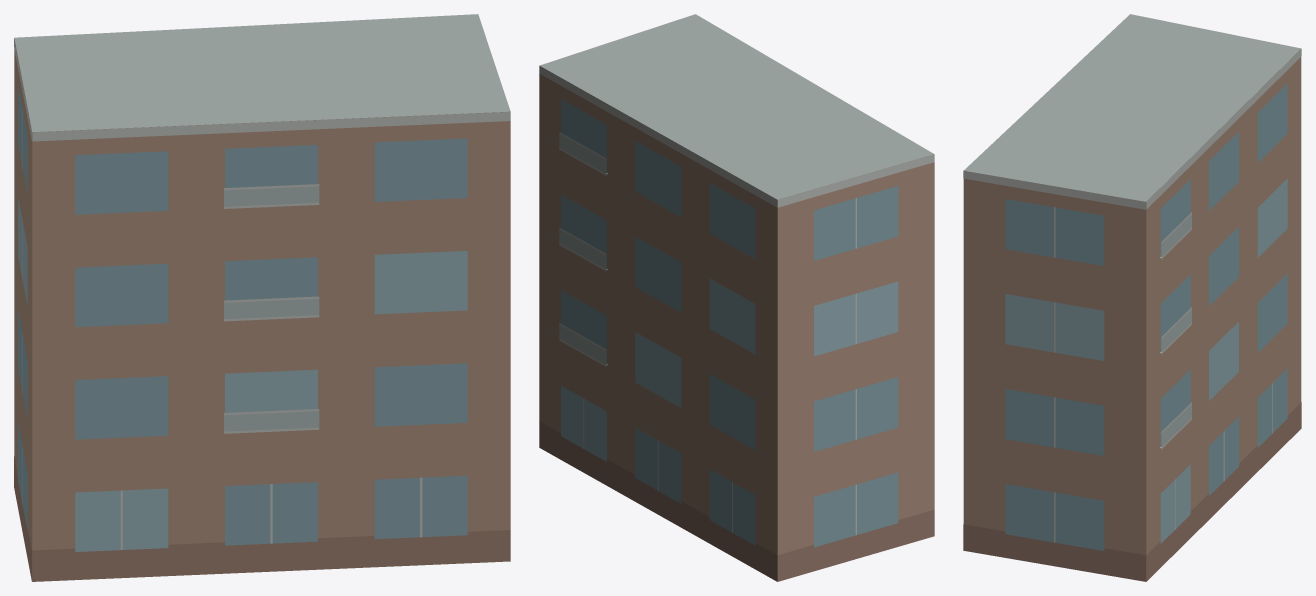
File: survey-upis-32734761.glb
3 views of the same model, side by side, from view 1: azimuth 30°, elevation 25°; view 2: azimuth 150°, elevation 25°; view 3: azimuth 270°, elevation 25° (orthographic). The views are drawn at different scales.
Visible parts, largest first — view 1: survey-upis-32734761.tmp; view 2: survey-upis-32734761.tmp; view 3: survey-upis-32734761.tmp.
Part boxes in pixels (box(x1,y1,x2,y2)): survey-upis-32734761.tmp: box(14, 14, 510, 581); survey-upis-32734761.tmp: box(539, 14, 934, 581); survey-upis-32734761.tmp: box(963, 14, 1301, 581).
Size of the model in its own units: 12.41 by 11.7 by 9.44.
